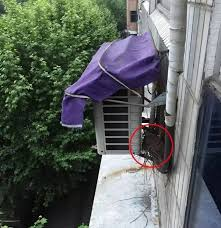bird-nest: (139, 127, 165, 159)
